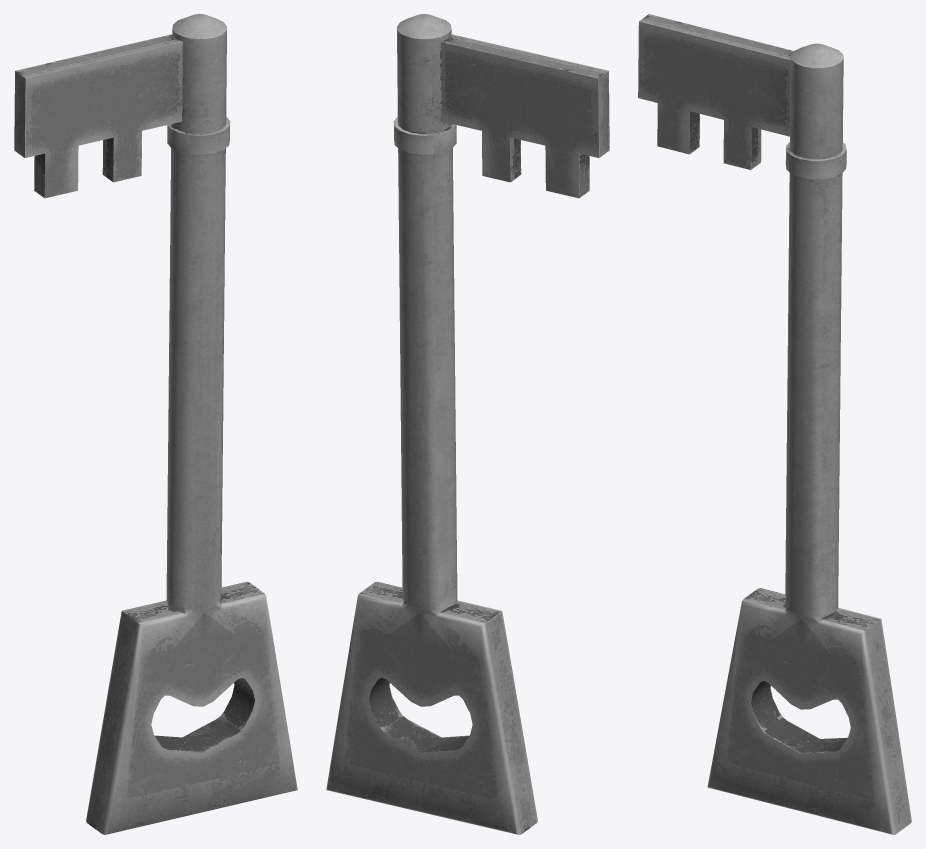
File: Key.fbx
3 renders of one model, left to right at view 1: azimuth 30°, elevation 25°; view 2: azimuth 150°, elevation 25°; view 3: azimuth 330°, elevation 25°, orthographic. The views are drawn at different scales.
Visible parts, largest first — view 1: Key; view 2: Key; view 3: Key.
Part boxes in pixels (box(x1,y1,x2,y2)): Key: box(14, 14, 297, 834); Key: box(326, 14, 609, 834); Key: box(638, 14, 911, 834).
Bounding box in the file's own units: 0.8681 × 2.42 × 0.1764.
